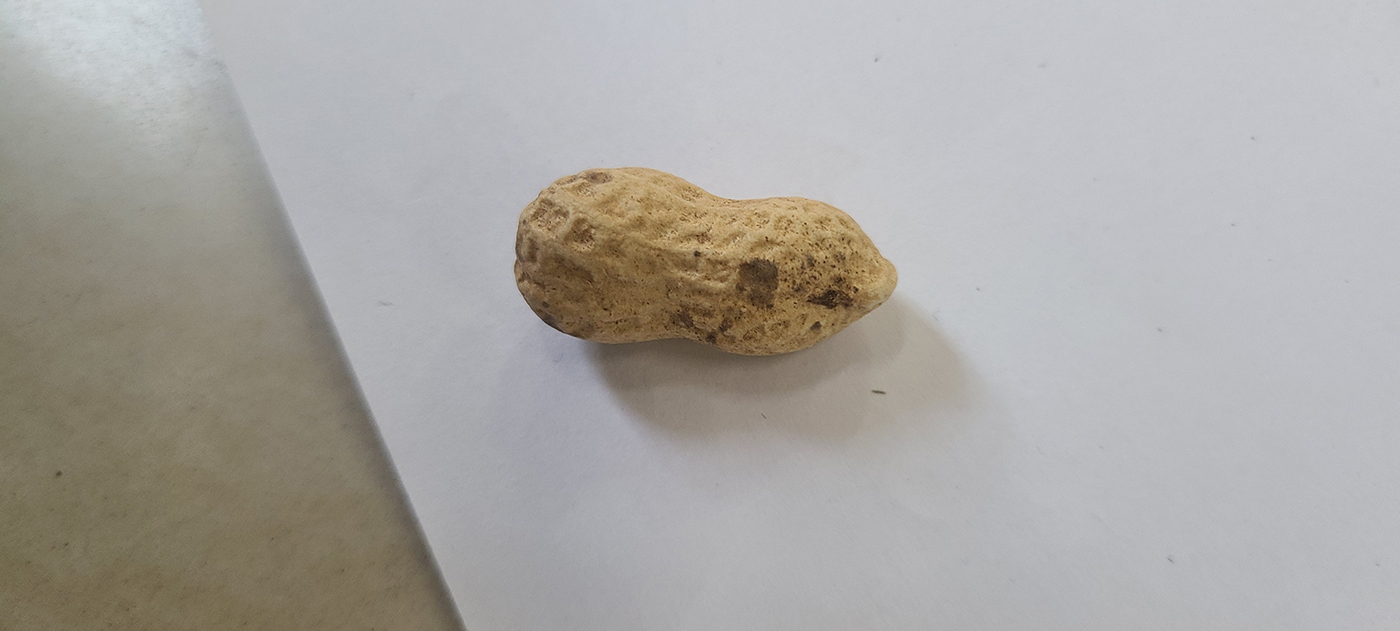h: (509, 166, 899, 359)
